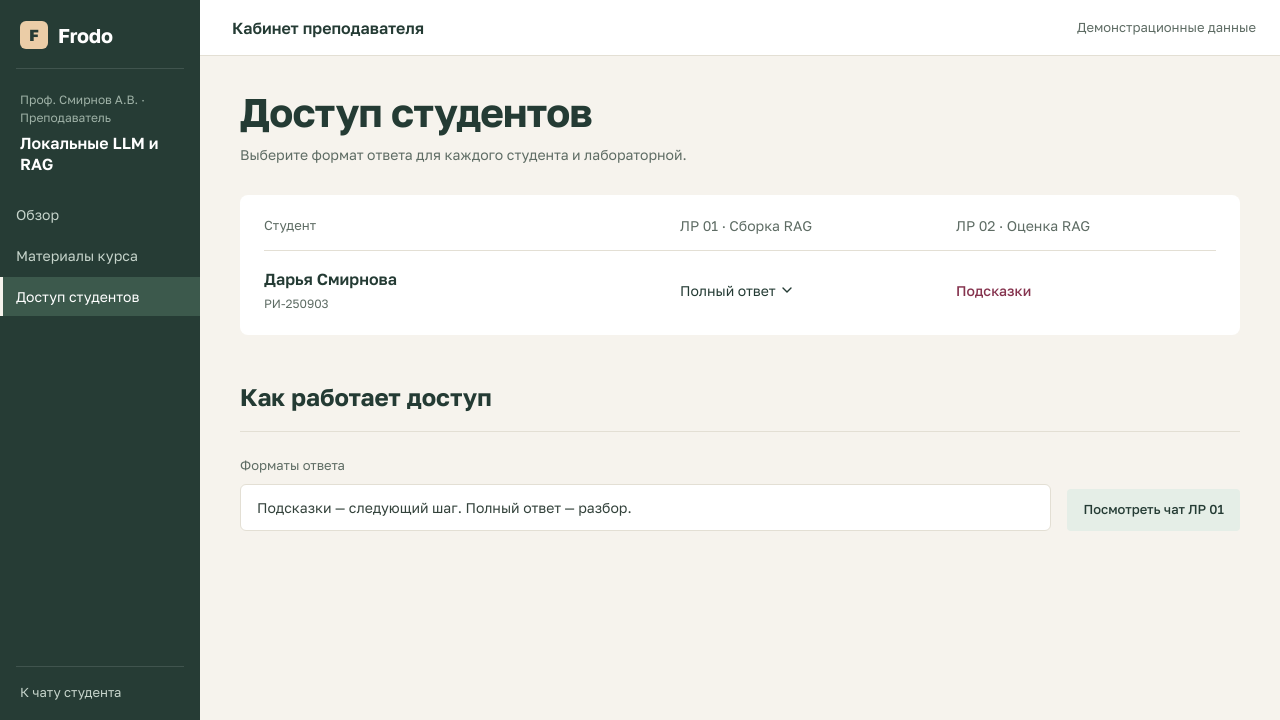
it: страница «Доступ студентов» › меняет формат первой лабораторной через селект
The image size is (1280, 720).
Click the button "Полный ответ": (736, 290) [680, 278, 792, 302]
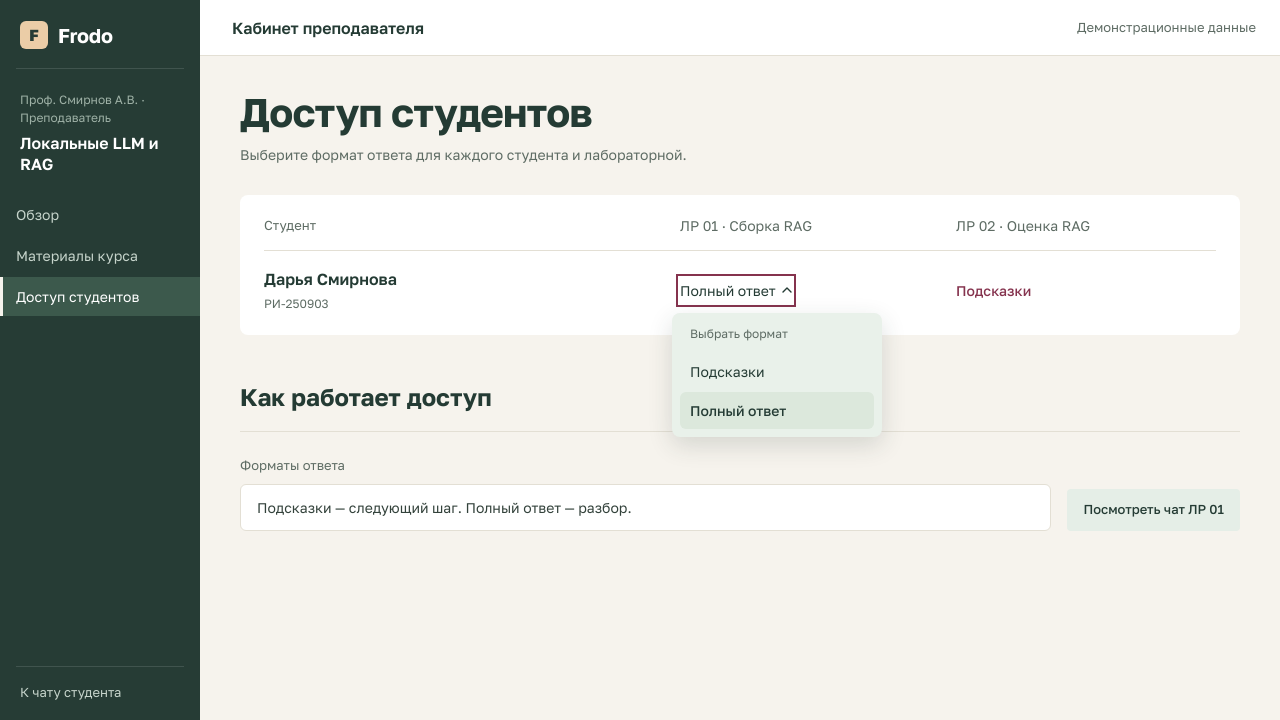
Click the option "Подсказки": (777, 371) [680, 352, 874, 390]
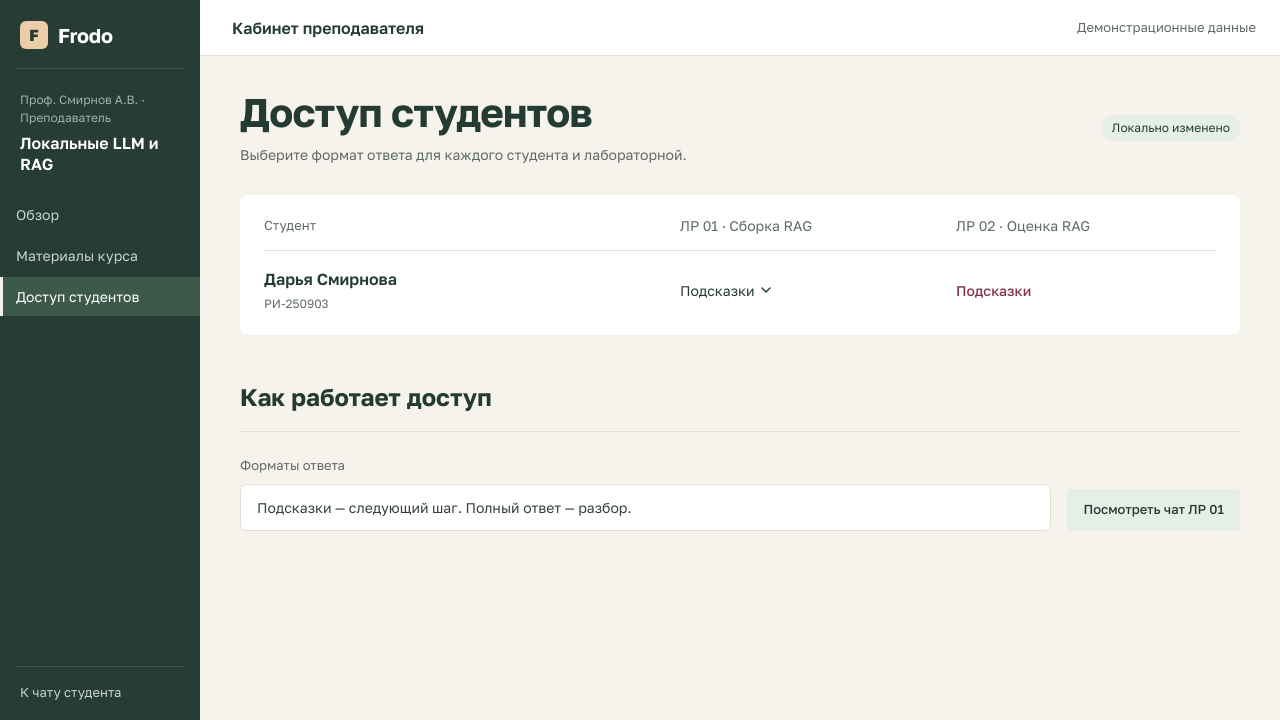
Now the button "Подсказки" is shown, box [680, 278, 771, 302]
